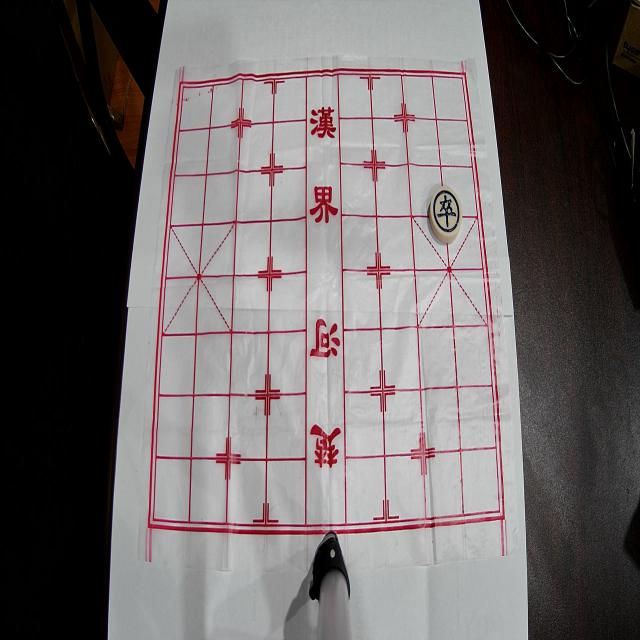black-soldier: (428, 186, 462, 244)
